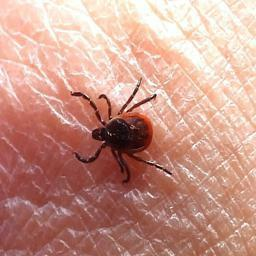Ixodes scapularis: (69, 78, 174, 184)
